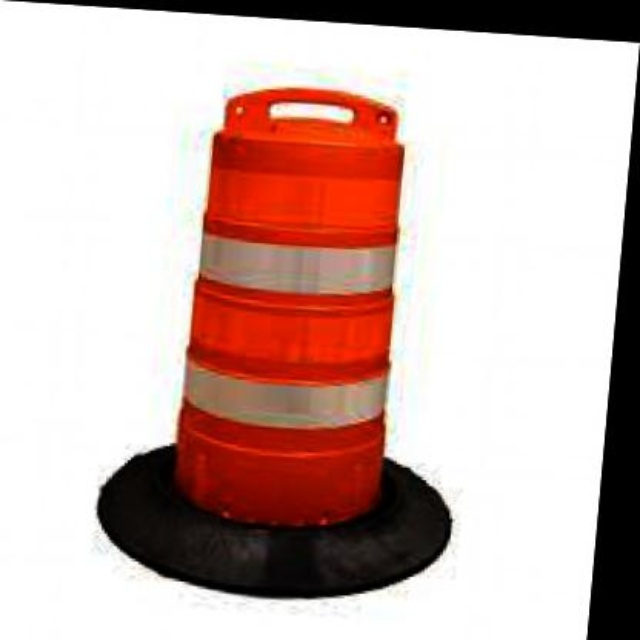obstacle: (172, 71, 431, 535)
